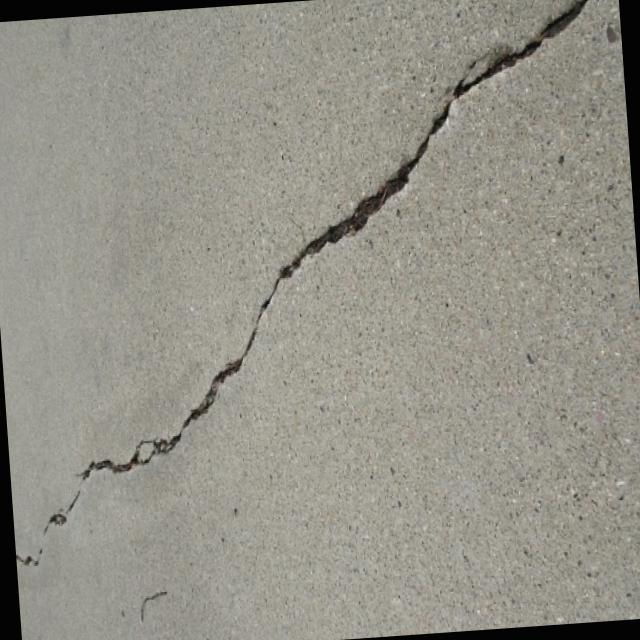crack: (352, 0, 619, 223), (180, 198, 380, 421), (8, 410, 204, 573), (136, 592, 166, 626)
